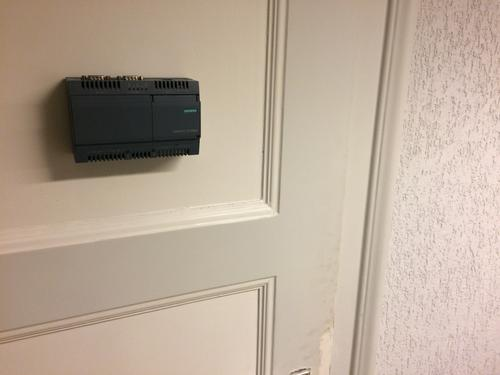iot2000: (65, 75, 203, 165)
